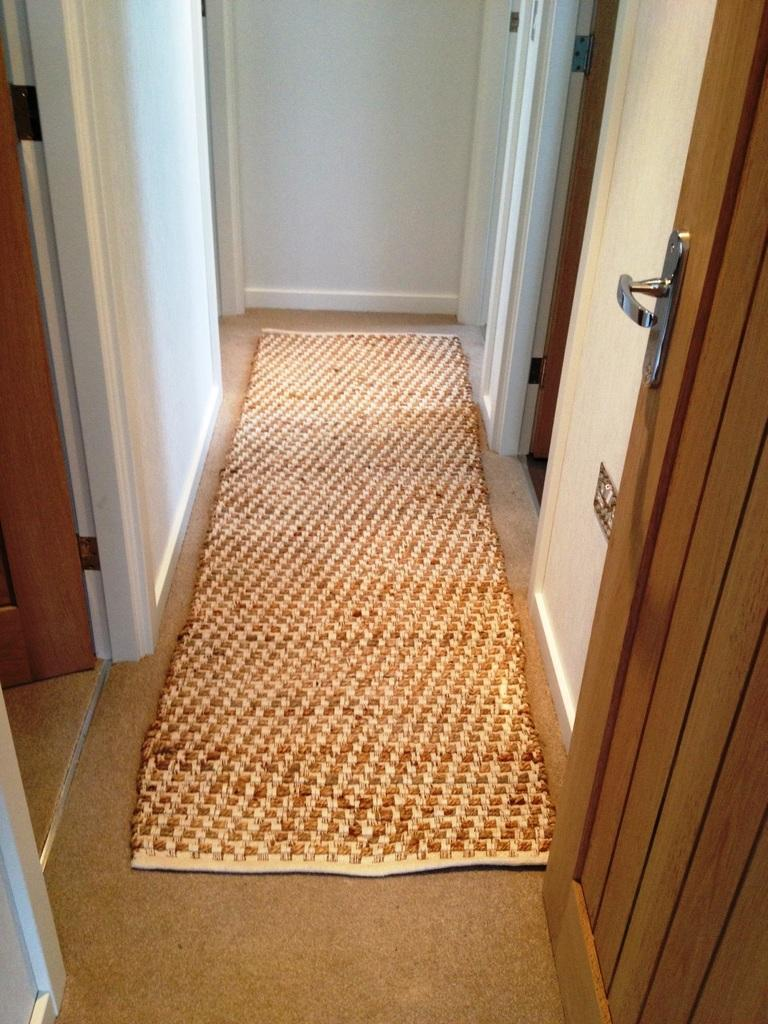door: (560, 13, 768, 1024), (247, 0, 481, 304), (9, 298, 66, 700)
handle: (618, 252, 674, 358)
